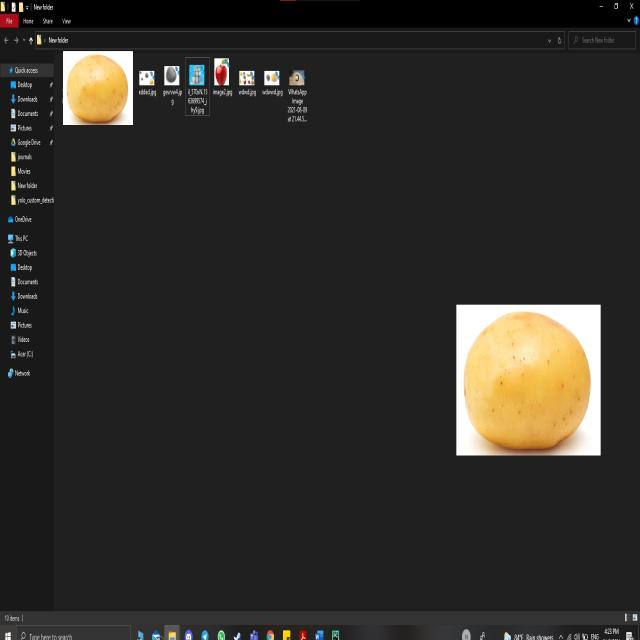potato: (464, 315, 592, 448), (67, 56, 129, 122)
